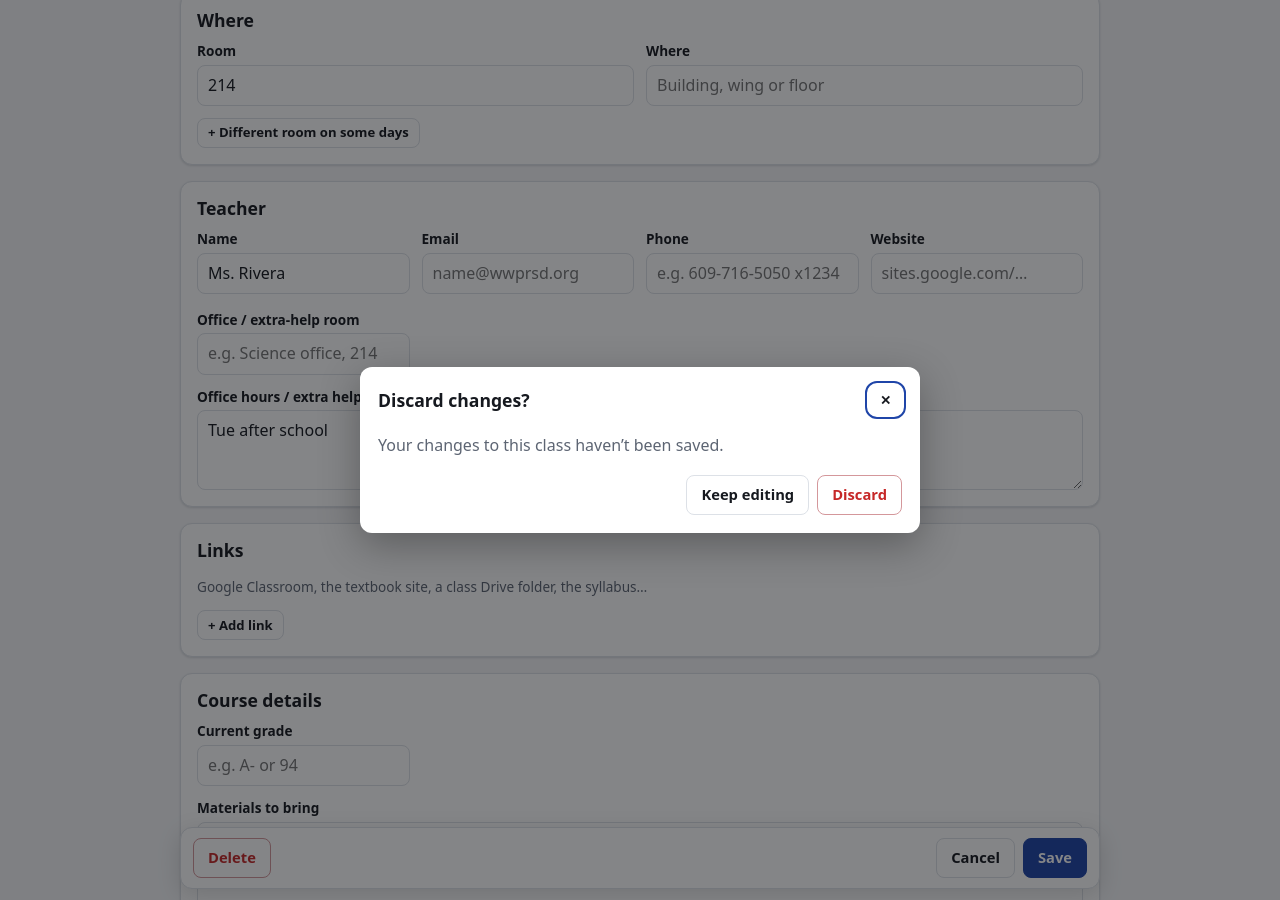
Test: ClassEditPage: unsaved changes › asks before a tab or Back leaves an edited class, and stays on "Keep editing"
Earlier steps of the test are not shown.
Later steps or results of the test are not shown.
(page scrolled)
Click the button "Keep editing": (748, 495) [686,475,809,515]
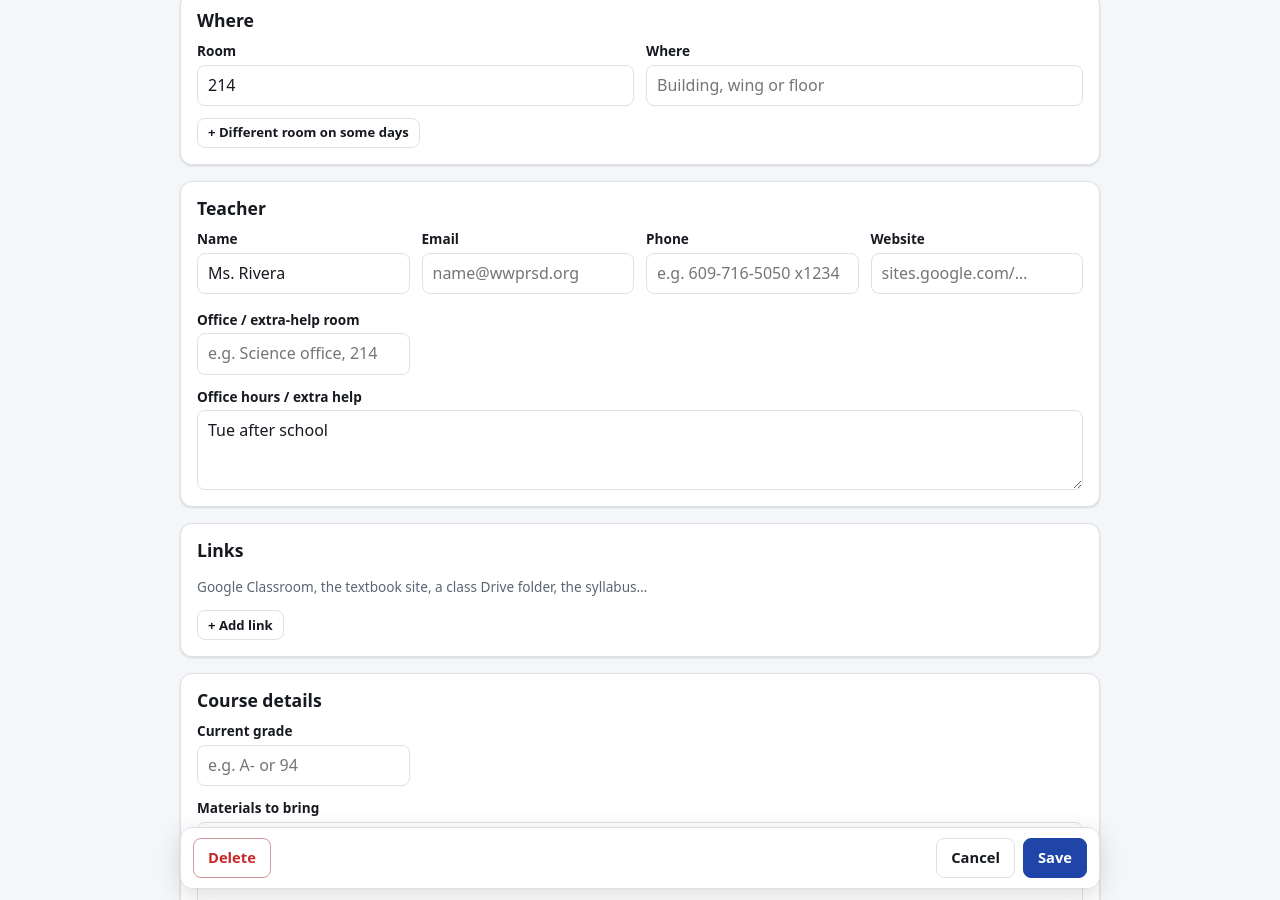
Expected: the text box labelled "Office hours / extra help" holds "Tue after school", [197,410,1083,490]
Expected: the heading "Discard changes?" is gone
